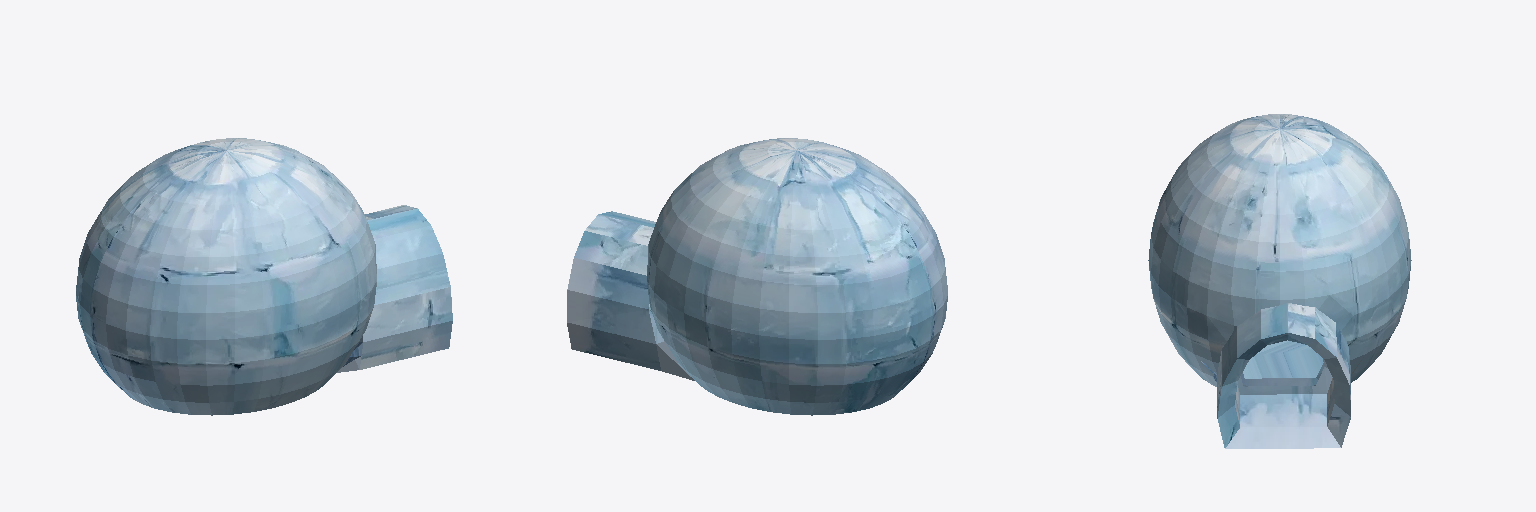
3 views of the same model, side by side, from view 1: azimuth 30°, elevation 25°; view 2: azimuth 150°, elevation 25°; view 3: azimuth 270°, elevation 25° (orthographic).
Parts seen in each view (by area): view 1: Cylinder.002_New_Material.002; view 2: Cylinder.002_New_Material.002; view 3: Cylinder.002_New_Material.002.
Part boxes in pixels (x1,y1,x2,y2): Cylinder.002_New_Material.002: (76,138,452,415); Cylinder.002_New_Material.002: (567,138,947,415); Cylinder.002_New_Material.002: (1148,114,1411,448).
Bounding box in the file's own units: 3.93 × 2.55 × 2.7.
1 materials, 1 textured.